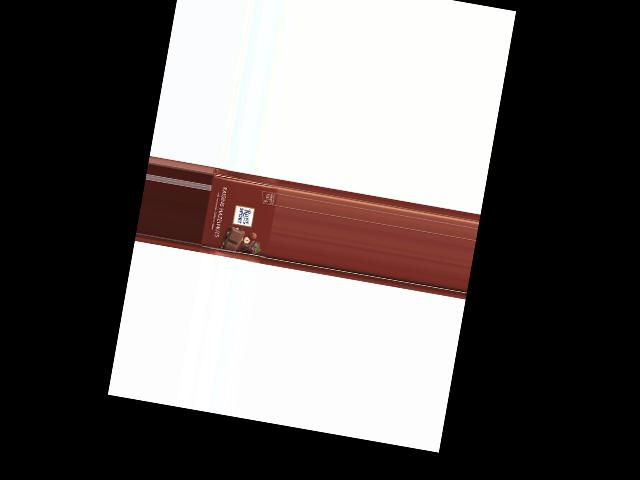chocolate: (198, 167, 280, 265)
